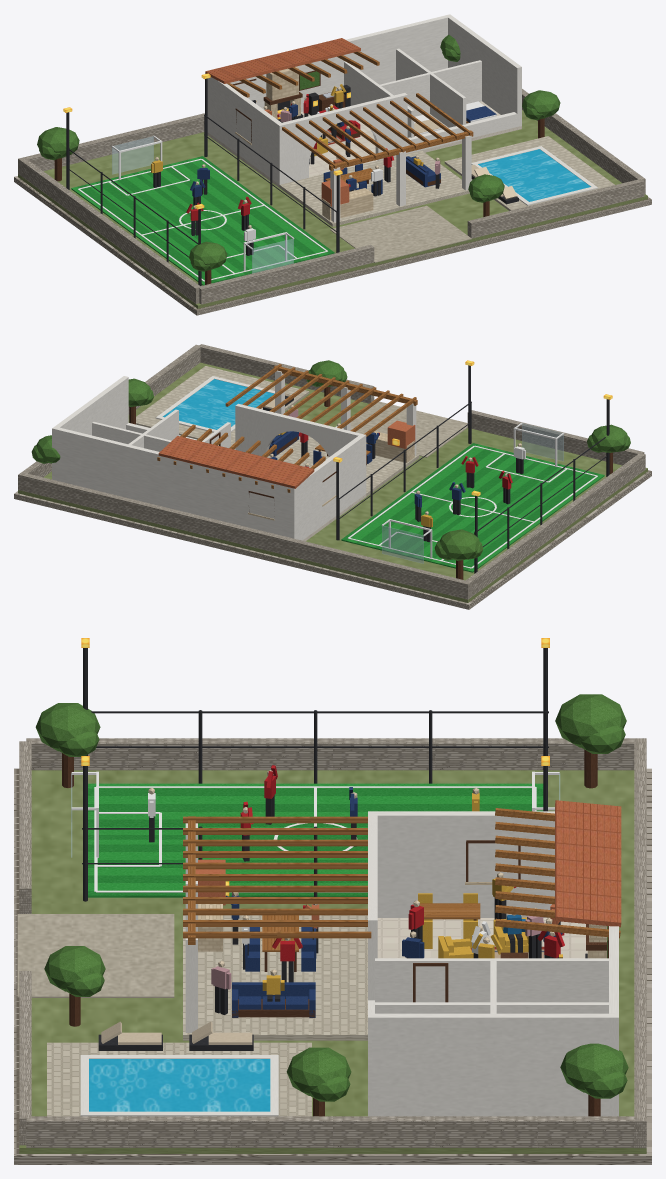
Rendered from villa1_monti.glb.
3 renders of one model, top to bottom at view 1: azimuth 30°, elevation 25°; view 2: azimuth 150°, elevation 25°; view 3: azimuth 270°, elevation 25°, orthographic. The views are drawn at different scales.
Visible parts, largest first — view 1: Pitch_Turf, Base_Terrain, Wall_N, Base_Trim, Gravel_Drive, Wall_W, Wall_Front_Left, Wall_DryW, Veranda_Floor, Wall_E, Wall_DryS2, Wall_DryS1 (+24 smaller); view 2: Pitch_Turf, Wall_N, Base_Terrain, Wall_DryN, Base_Trim, Wall_W, Wall_DryW, Roof_Back_Strip, Wall_Front_Left, Wall_DryS1, Monti_Pool_water, Gravel_Drive (+18 smaller); view 3: Base_Terrain, Pitch_Turf, Wall_E, Wall_DryE, Wall_DryW, Wall_W, Base_Trim, Veranda_Floor, Gravel_Drive, Part_Mid_Vert, Monti_Pool_water, Roof_Back_Strip (+36 smaller).
Part boxes in pixels (x1,y1,x2,y2): Pitch_Turf: (71, 156, 334, 284); Base_Terrain: (18, 110, 647, 308); Wall_N: (207, 15, 447, 133); Base_Trim: (14, 176, 651, 315); Gravel_Drive: (330, 205, 471, 262); Wall_W: (210, 77, 284, 183); Wall_Front_Left: (278, 93, 407, 184); Wall_DryW: (21, 160, 199, 303); Veranda_Floor: (280, 150, 468, 223); Wall_E: (445, 14, 521, 126); Wall_DryS2: (467, 179, 644, 238); Wall_DryS1: (198, 244, 374, 304); Pitch_Turf: (341, 443, 604, 571); Wall_N: (52, 427, 296, 538); Base_Terrain: (18, 362, 647, 602); Wall_DryN: (18, 472, 471, 599); Base_Trim: (14, 470, 651, 609); Wall_W: (294, 434, 366, 540); Wall_DryW: (466, 453, 645, 596); Roof_Back_Strip: (158, 436, 314, 488); Wall_Front_Left: (235, 403, 360, 457); Wall_DryS1: (467, 410, 644, 465); Monti_Pool_water: (163, 379, 274, 429); Gravel_Drive: (350, 401, 467, 457); Base_Terrain: (19, 770, 646, 1153); Pitch_Turf: (88, 783, 543, 895); Wall_E: (368, 1013, 618, 1116); Wall_DryE: (26, 1116, 634, 1147); Wall_DryW: (26, 738, 634, 770); Wall_W: (368, 811, 554, 917); Base_Trim: (14, 768, 651, 1164); Veranda_Floor: (183, 915, 367, 1034); Gravel_Drive: (17, 914, 174, 997); Part_Mid_Vert: (375, 958, 608, 1002); Monti_Pool_water: (89, 1059, 270, 1111); Roof_Back_Strip: (555, 800, 621, 927).
Size of the model in its own units: 26.3 by 4.95 by 18.3.
Materials: 25 (25 with a texture image).
